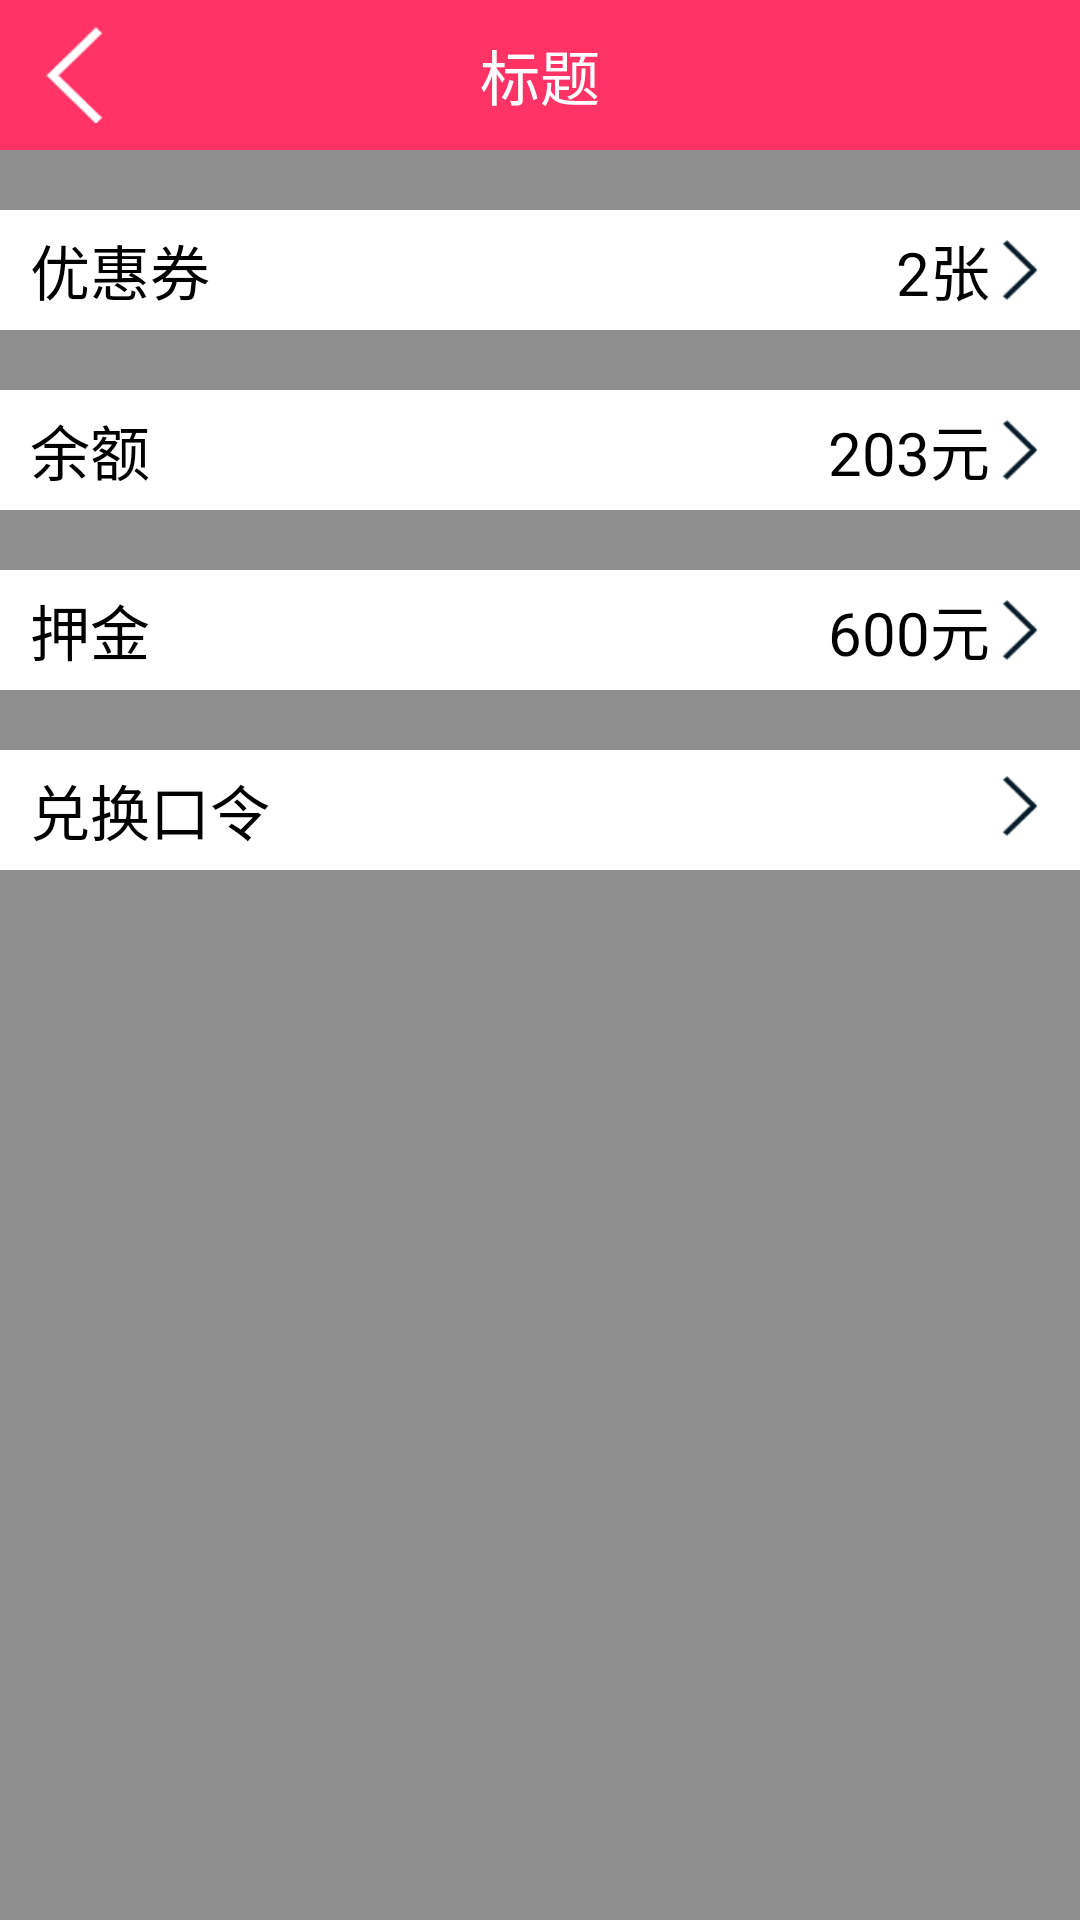

Named icons in this screenshot (1080 × 1920) and their centers, point (x, y):
fanhuijiantou: point (74, 75)
